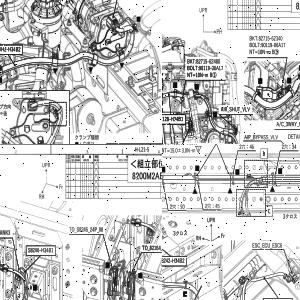PartNumber: (28, 247, 54, 254), (258, 35, 284, 41), (196, 58, 221, 64), (261, 42, 286, 48), (162, 115, 183, 122), (162, 257, 184, 263), (0, 46, 21, 52), (199, 66, 224, 71)
